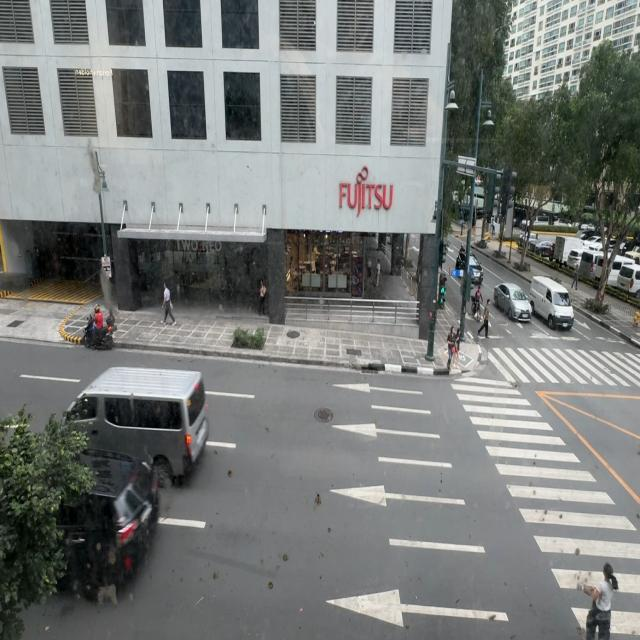waiting: (444, 329, 457, 372), (454, 328, 462, 366)
